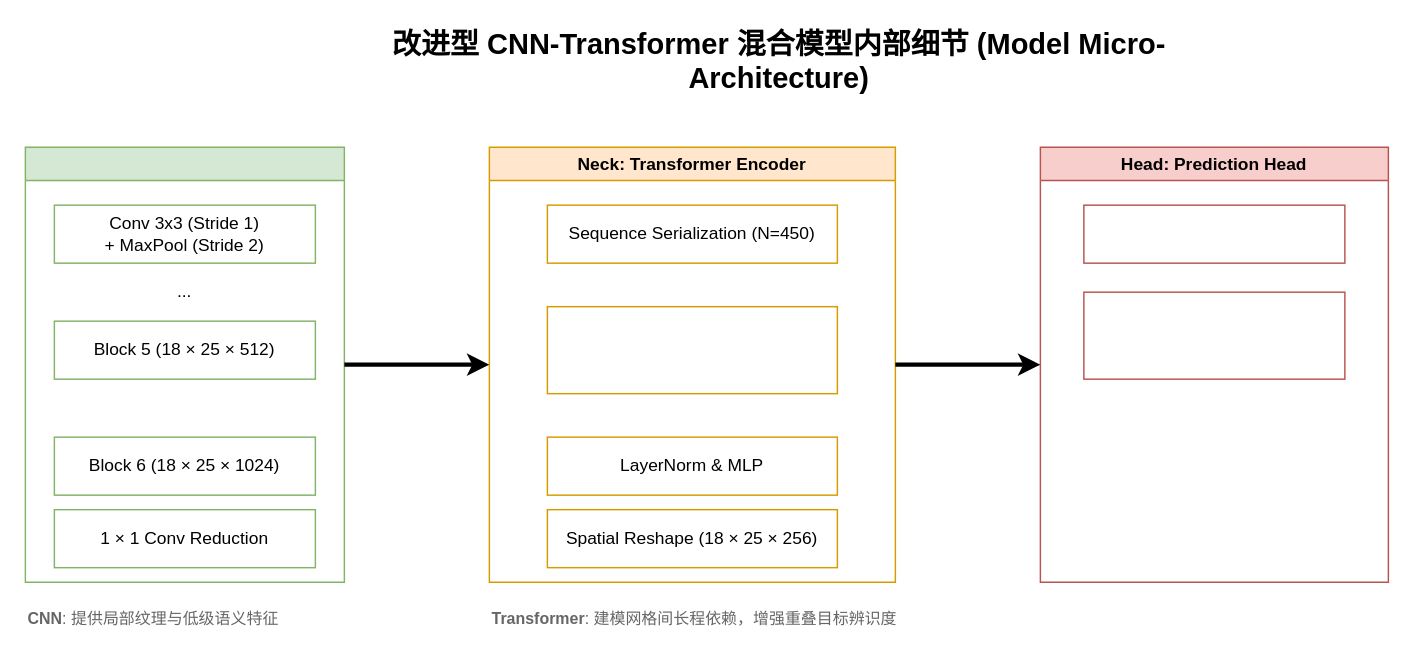
Some shapes in this 1414 by 664 pixel diagram are drawn without their labels. Each missing label, with the box of its shape:
1 × 1 Conv (Output=22): (1082, 204, 1345, 263)
Backbone: Darknet-19: (24, 146, 344, 582)
Multi-Head Self-Attention Softmax(QK^T / √d)V: (546, 305, 837, 394)
Output Vector Logic: [u, v, Δp1..8, l, w, h, s]: (1082, 291, 1345, 379)
